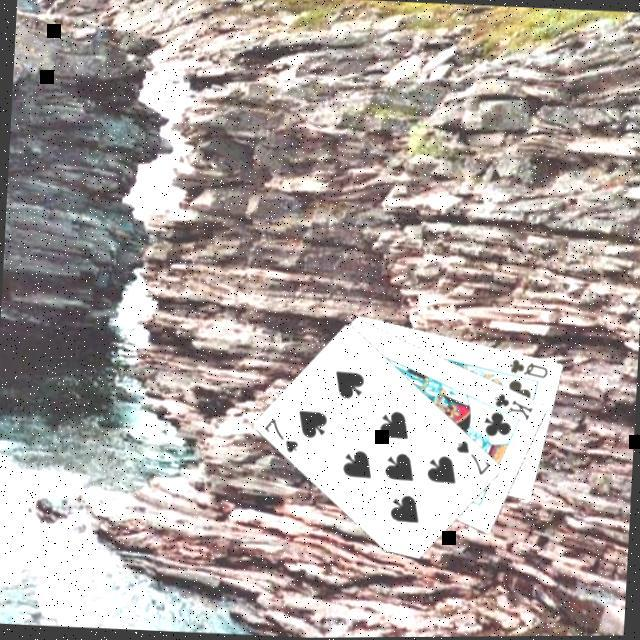7S: (450, 435, 494, 477), (258, 413, 302, 455)
KC: (481, 387, 535, 424)
QC: (503, 354, 550, 380)
